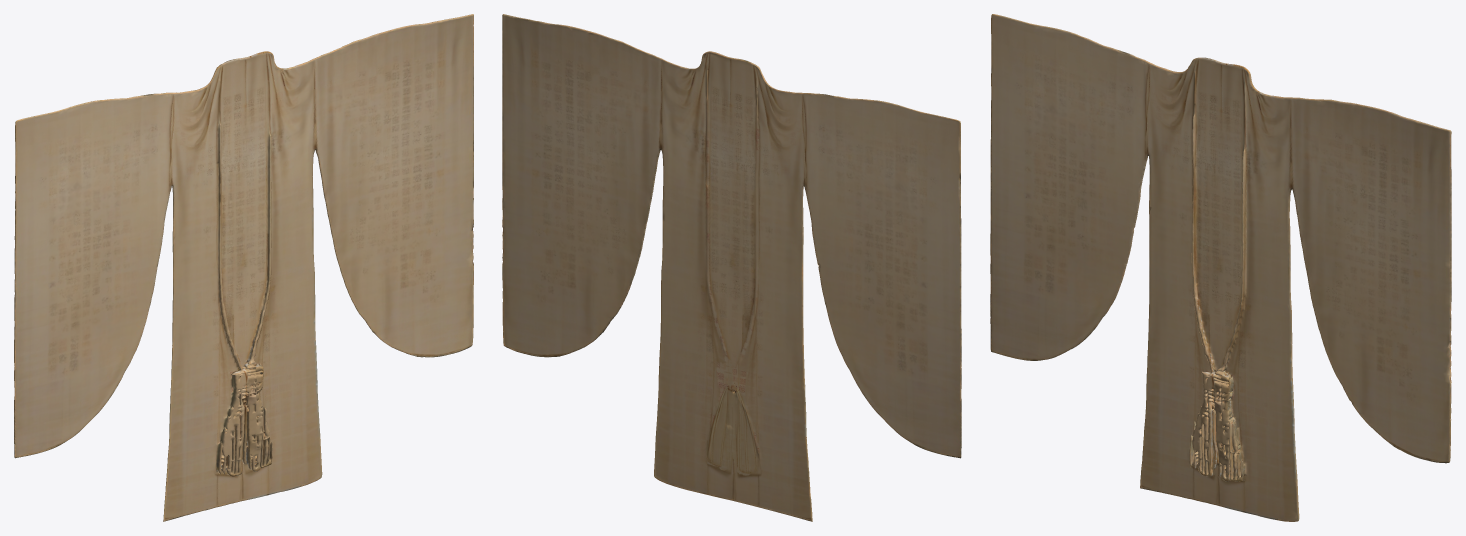
The model's file is 大袖纱罗衫.glb.
The picture shows the model from 3 angles, left to right: view 1: azimuth 30°, elevation 25°; view 2: azimuth 150°, elevation 25°; view 3: azimuth 330°, elevation 25°; orthographic projection.
Bounding box in the file's own units: 2 × 1.85 × 0.0504.
1 material, 1 textured.
